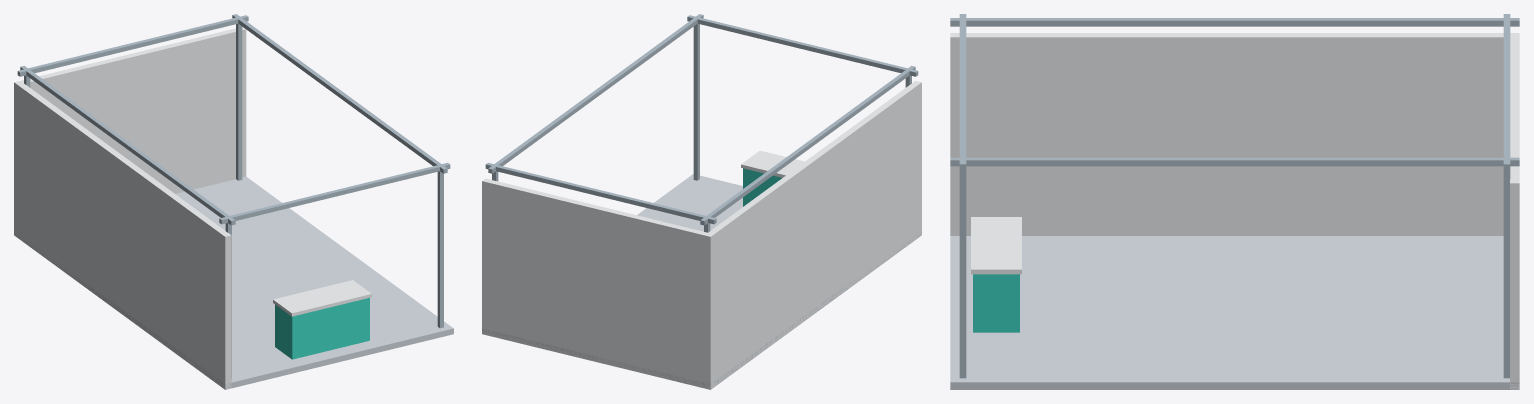
The picture shows the model from 3 angles, left to right: view 1: azimuth 30°, elevation 25°; view 2: azimuth 150°, elevation 25°; view 3: azimuth 270°, elevation 25°; orthographic projection. The views are drawn at different scales.
Visible parts, largest first — view 1: Exhibition Booth Concept; view 2: Exhibition Booth Concept; view 3: Exhibition Booth Concept.
Part boxes in pixels (x1,y1,x2,y2): Exhibition Booth Concept: [14, 14, 453, 389]; Exhibition Booth Concept: [482, 14, 921, 389]; Exhibition Booth Concept: [950, 14, 1519, 389].
Size of the model in its own units: 5 by 3.49 by 8.
